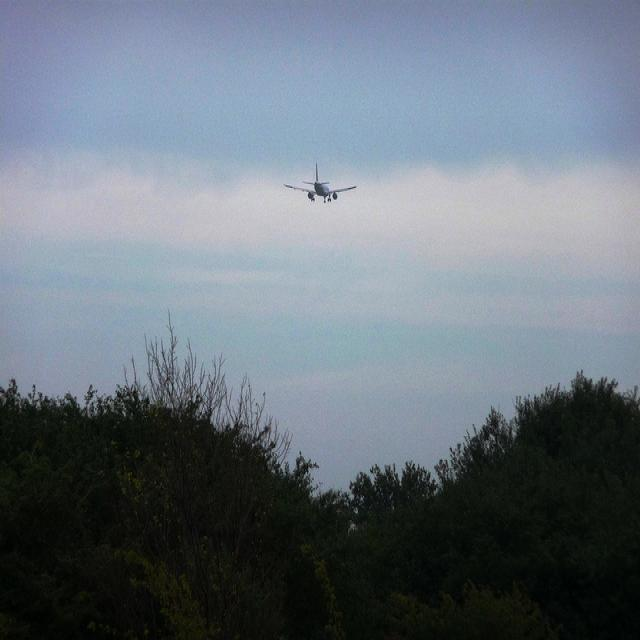airplane: (282, 160, 358, 206)
